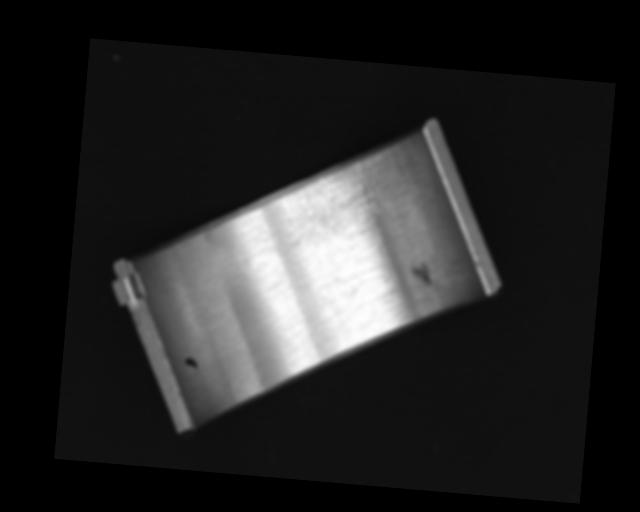blot: (183, 356, 199, 370)
bruise: (408, 260, 434, 285)
scratch: (289, 140, 397, 240)
